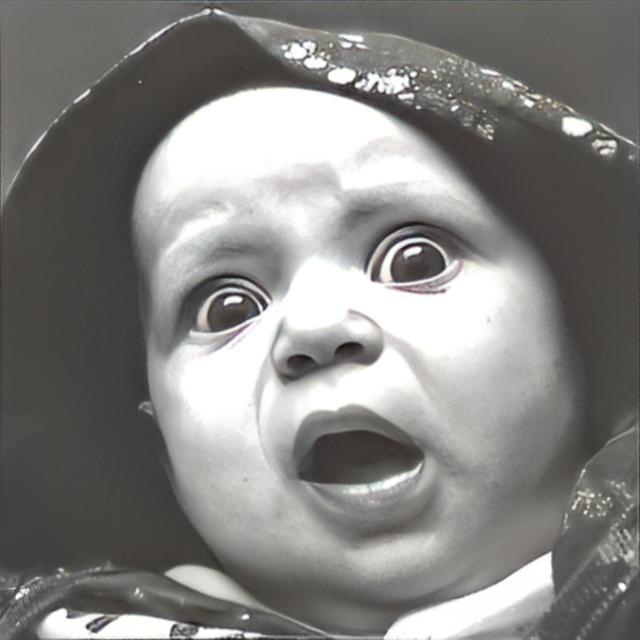fear: (128, 80, 584, 609)
